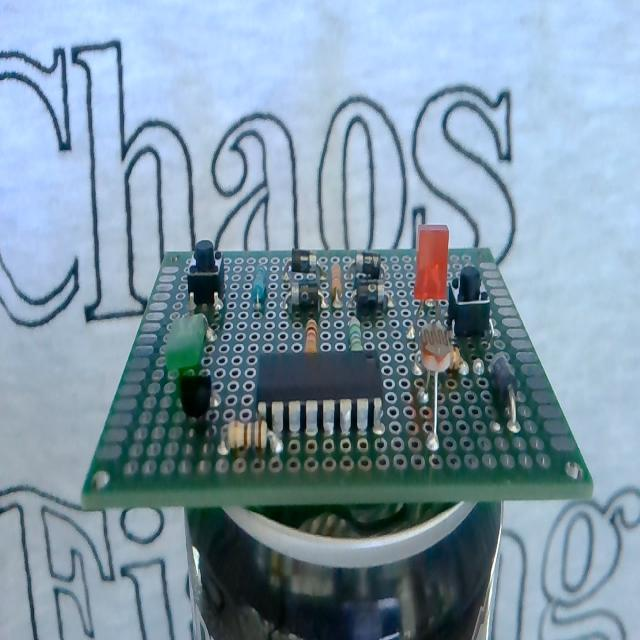IC: (253, 347, 389, 440)
cds: (411, 322, 452, 460)
diode: (484, 348, 521, 433), (347, 279, 394, 317), (282, 281, 326, 310), (346, 251, 388, 280), (283, 249, 325, 275)
led: (412, 219, 450, 328), (164, 308, 220, 376)
resistor: (217, 416, 278, 465), (328, 256, 344, 319), (251, 258, 267, 314), (347, 317, 366, 354), (304, 318, 317, 358)
switch: (448, 260, 497, 340), (181, 236, 229, 306)
transistor: (174, 369, 222, 424)
